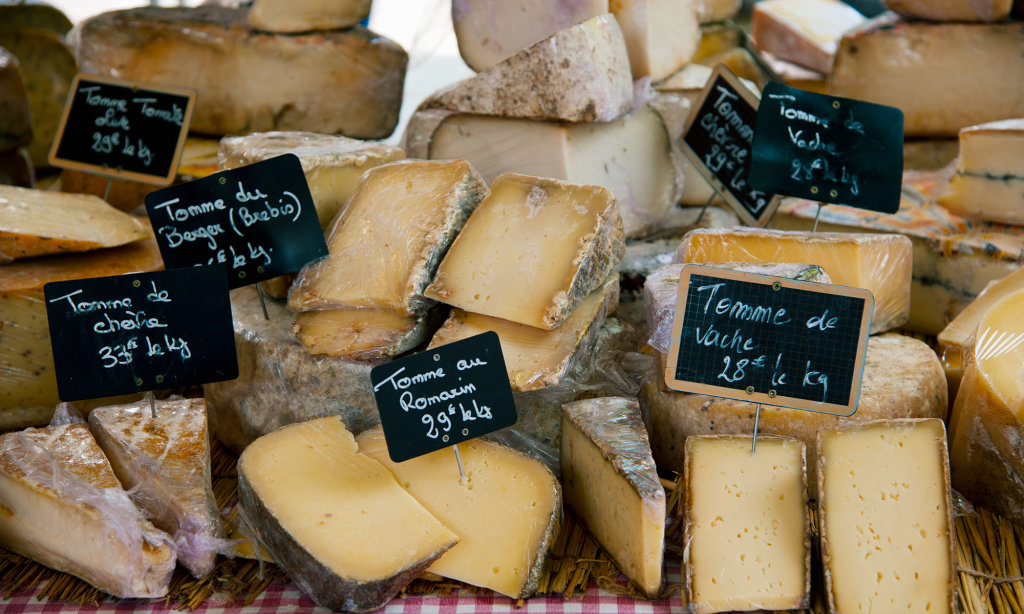cheese: (434, 165, 630, 350)
